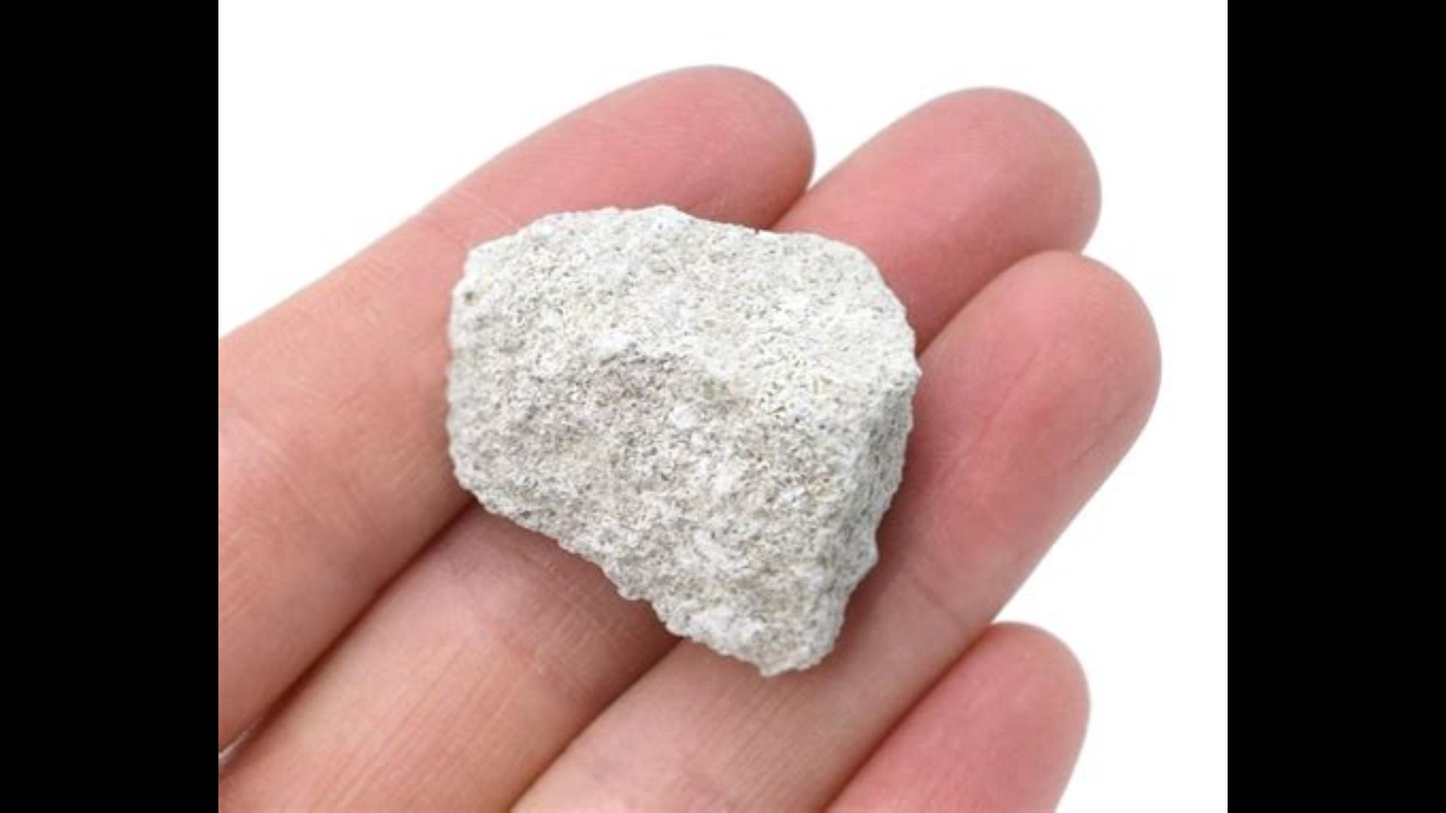rock: (450, 206, 910, 673)
